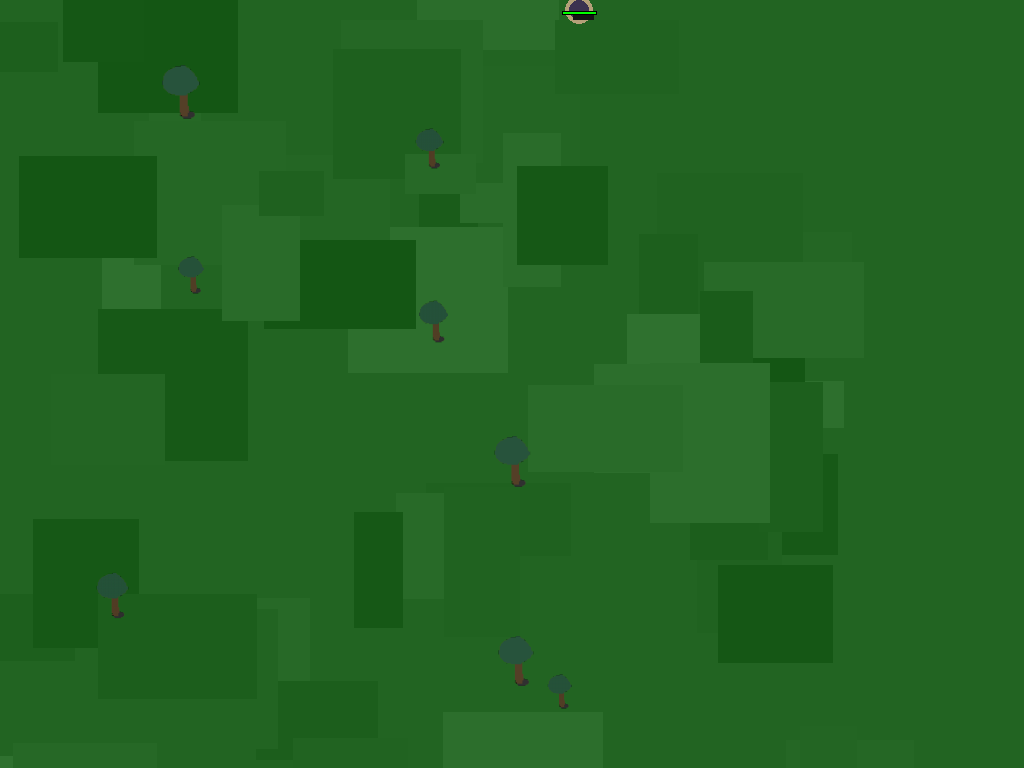RocketTrooper: (558, 0, 600, 42)
